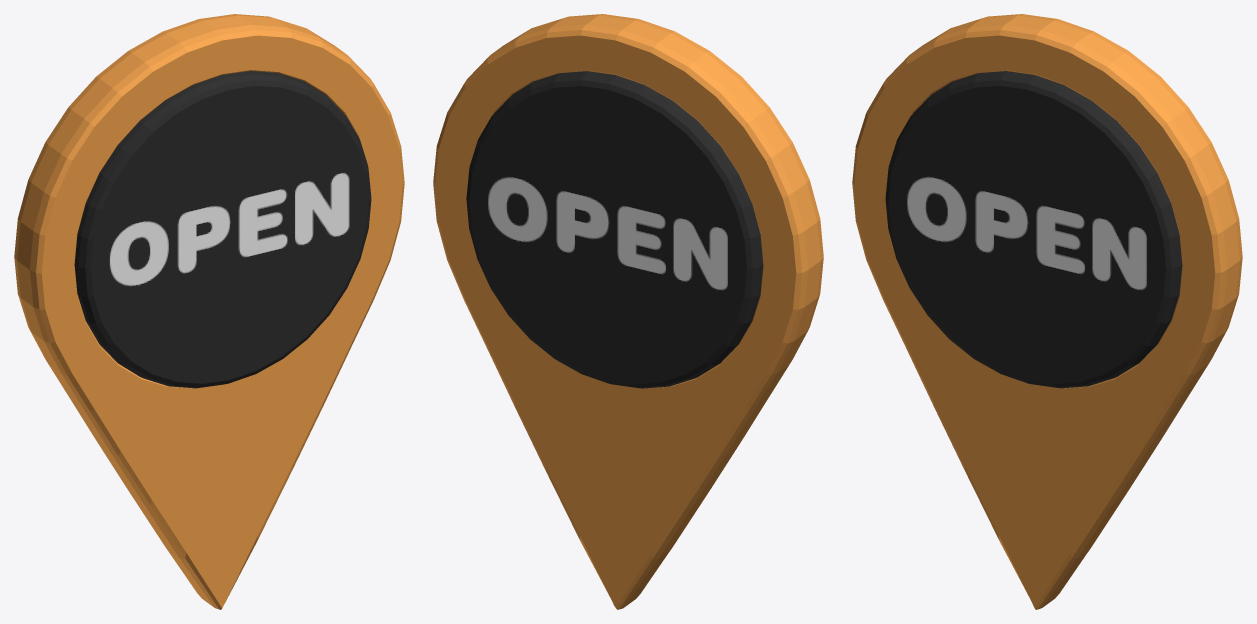
The model's file is Wordballoon_v1.fbx.
3 renders of one model, left to right at view 1: azimuth 30°, elevation 25°; view 2: azimuth 150°, elevation 25°; view 3: azimuth 330°, elevation 25°, orthographic.
Parts seen in each view (by area): view 1: v3; view 2: v3; view 3: v3.
Part boxes in pixels (left/top/right/bottom): v3: left=14, top=14, right=404, bottom=609; v3: left=433, top=14, right=823, bottom=609; v3: left=852, top=14, right=1242, bottom=609.
Size of the model in its own units: 1.32 by 1.97 by 0.2489.
Materials: 1 (1 with a texture image).
